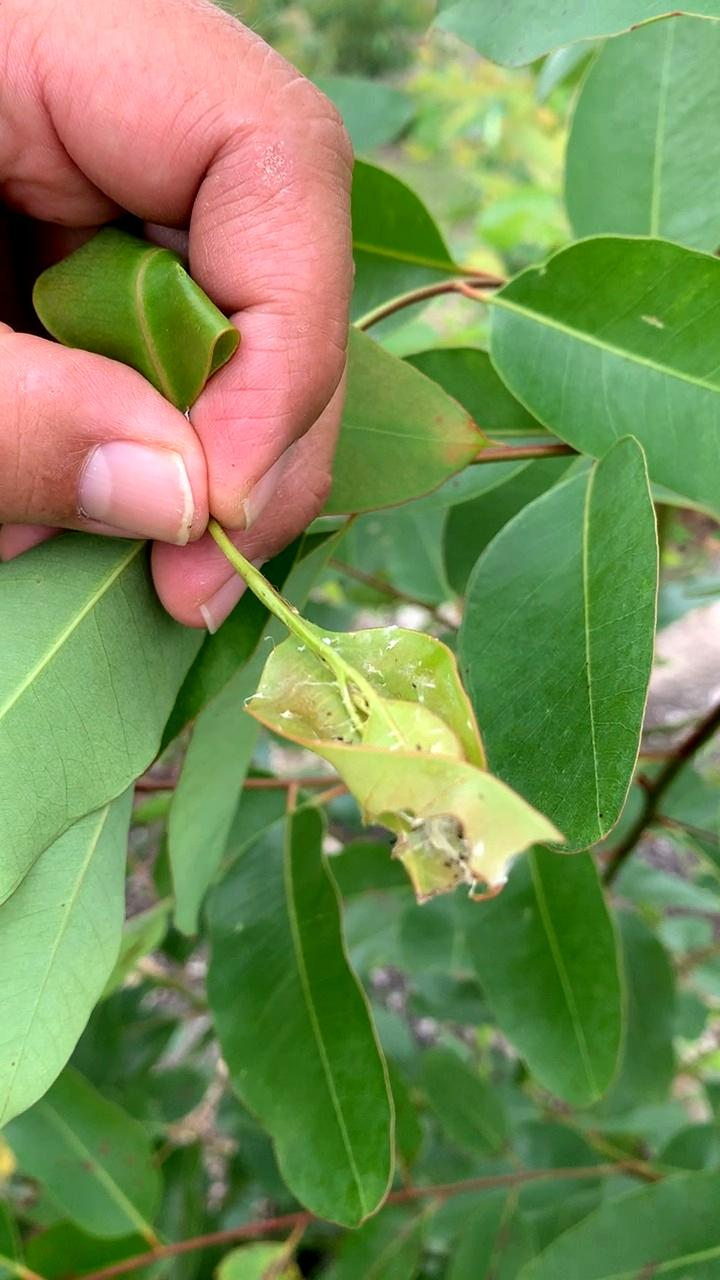Leaf Roller - Leaf: (245, 598, 557, 901)
